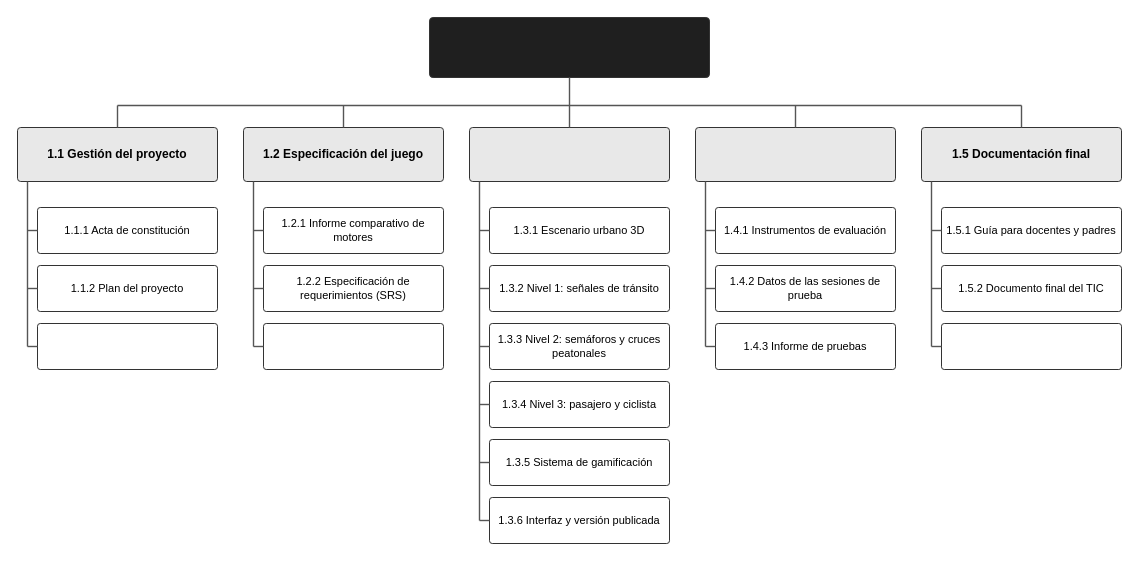
Image size: 1139x561. Some labels were removed from this diagram. Here are the shapes that lost their labels. From the top down, the centre of each, then its label:
At (569,47): "1 Videojuego educativo de educación vial en Roblox".
At (569,154): "1.3 Videojuego en Roblox".
At (795,154): "1.4 Resultados de validación".
At (127,346): "1.1.3 Informe de cierre y lecciones aprendidas".
At (353,346): "1.2.3 Documento de diseño del juego (GDD)".
At (1031,346): "1.5.3 Artículo científico".
